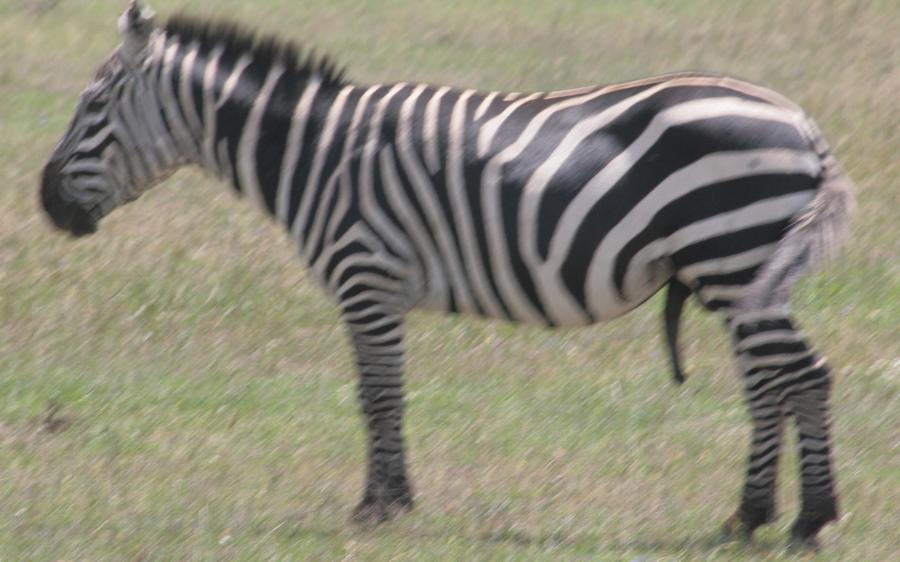zebra_plains: (277, 56, 786, 328)
